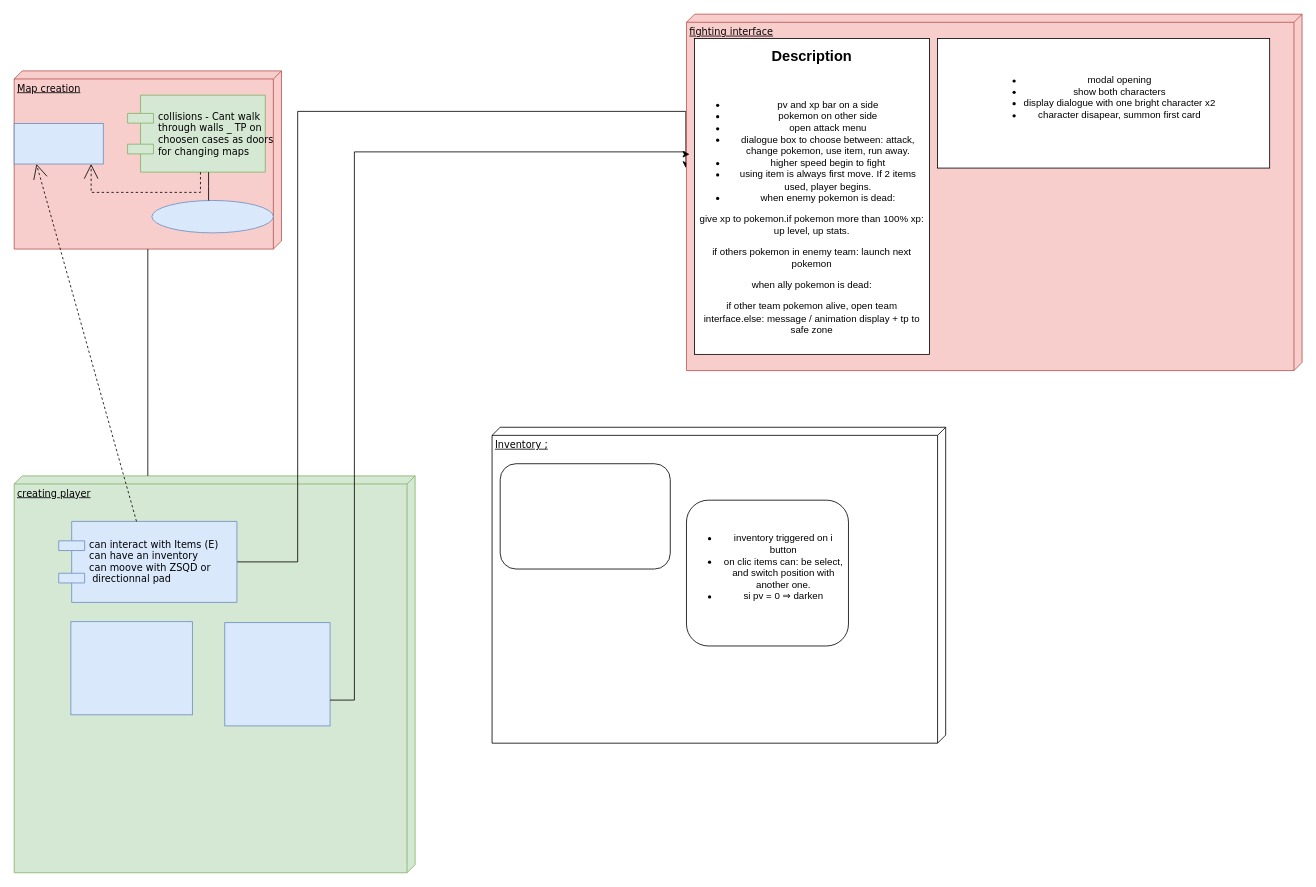
This 1316x887 diagram has some shape labels left out. Each missing label, with the centre of its shape:
"enemies : trigger a pause with a new interface for figthing" belongs at (277,674).
"interactive Items" belongs at (58,143).
"Mobs : -can speak if interacting can randomly moove in designed path" belongs at (131,668).
"non iterractive items" belongs at (212,216).
"when used ⇒ action add item in inventory spawn window to notice event" belongs at (584,516).
